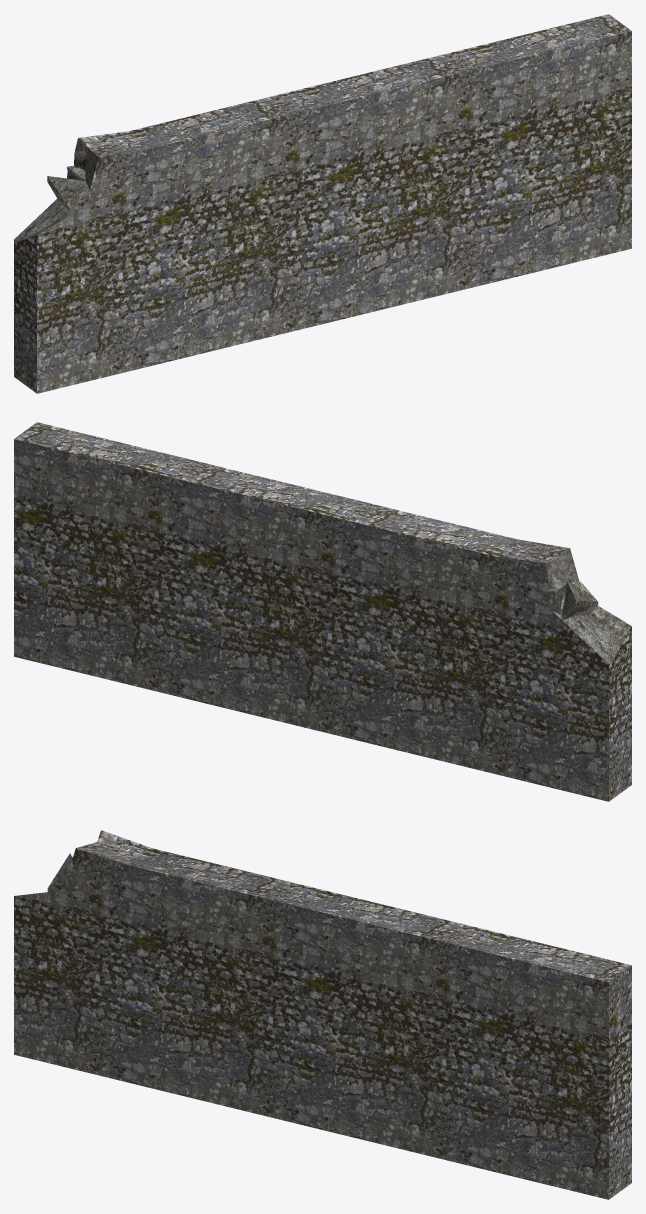
File: Cemetery_Wall_01_Model.FBX
3 renders of one model, top to bottom at view 1: azimuth 30°, elevation 25°; view 2: azimuth 150°, elevation 25°; view 3: azimuth 330°, elevation 25°, orthographic.
Visible parts, largest first — view 1: Box050; view 2: Box050; view 3: Box050.
Boxes of the visible parts, x1=… form: Box050: x1=14, y1=14, x2=631, y2=393; Box050: x1=14, y1=422, x2=631, y2=801; Box050: x1=14, y1=830, x2=631, y2=1199.
Size of the model in its own units: 8926 by 3202 by 601.
